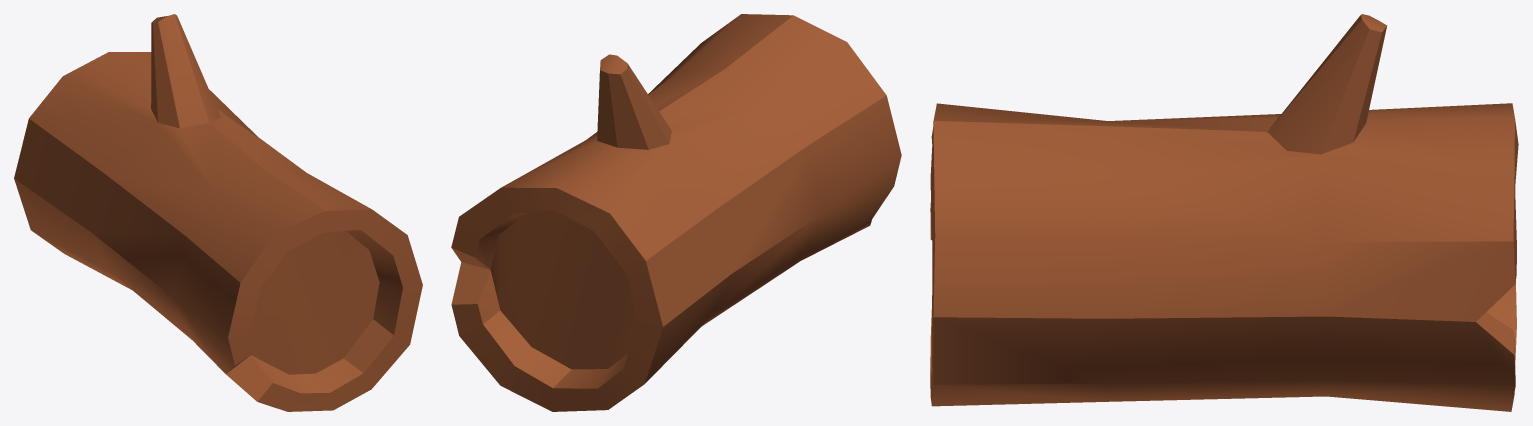
The model's file is log01.fbx.
3 renders of one model, left to right at view 1: azimuth 30°, elevation 25°; view 2: azimuth 150°, elevation 25°; view 3: azimuth 270°, elevation 25°, orthographic. The views are drawn at different scales.
Visible parts, largest first — view 1: log01; view 2: log01; view 3: log01.
Boxes of the visible parts, x1,y1,x2,y2 form: log01: (14,14,422,411); log01: (451,14,901,411); log01: (930,14,1518,411).
Size of the model in its own units: 0.7768 by 1.06 by 1.49.
